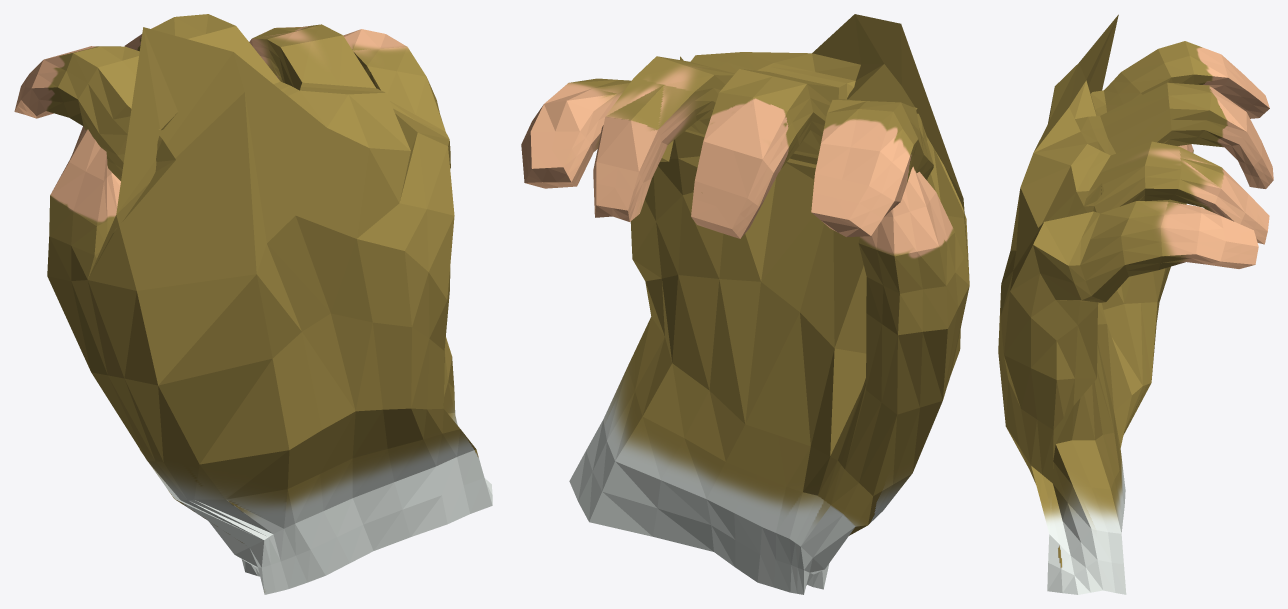
Rendered from grip0051.obj.
3 views of the same model, side by side, from view 1: azimuth 30°, elevation 25°; view 2: azimuth 150°, elevation 25°; view 3: azimuth 270°, elevation 25° (orthographic). The views are drawn at different scales.
Visible parts, largest first — view 1: Hand; view 2: Hand; view 3: Hand.
Part boxes in pixels (left/top/right/bottom): Hand: left=14, top=14, right=492, bottom=594; Hand: left=521, top=14, right=969, bottom=594; Hand: left=998, top=14, right=1273, bottom=594.
Bounding box in the file's own units: 2.77 × 3.85 × 1.96.
